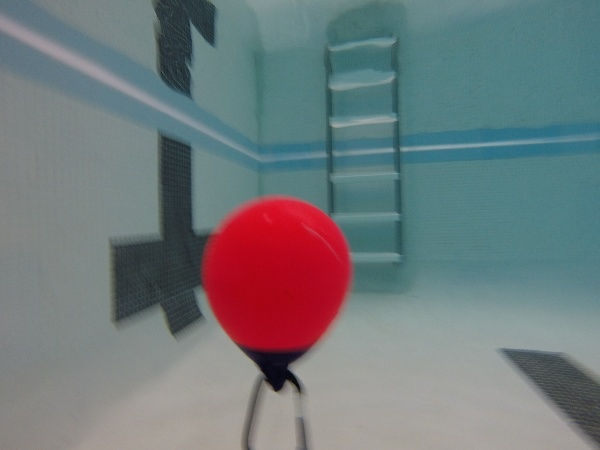buoy_red: (196, 193, 353, 397)
